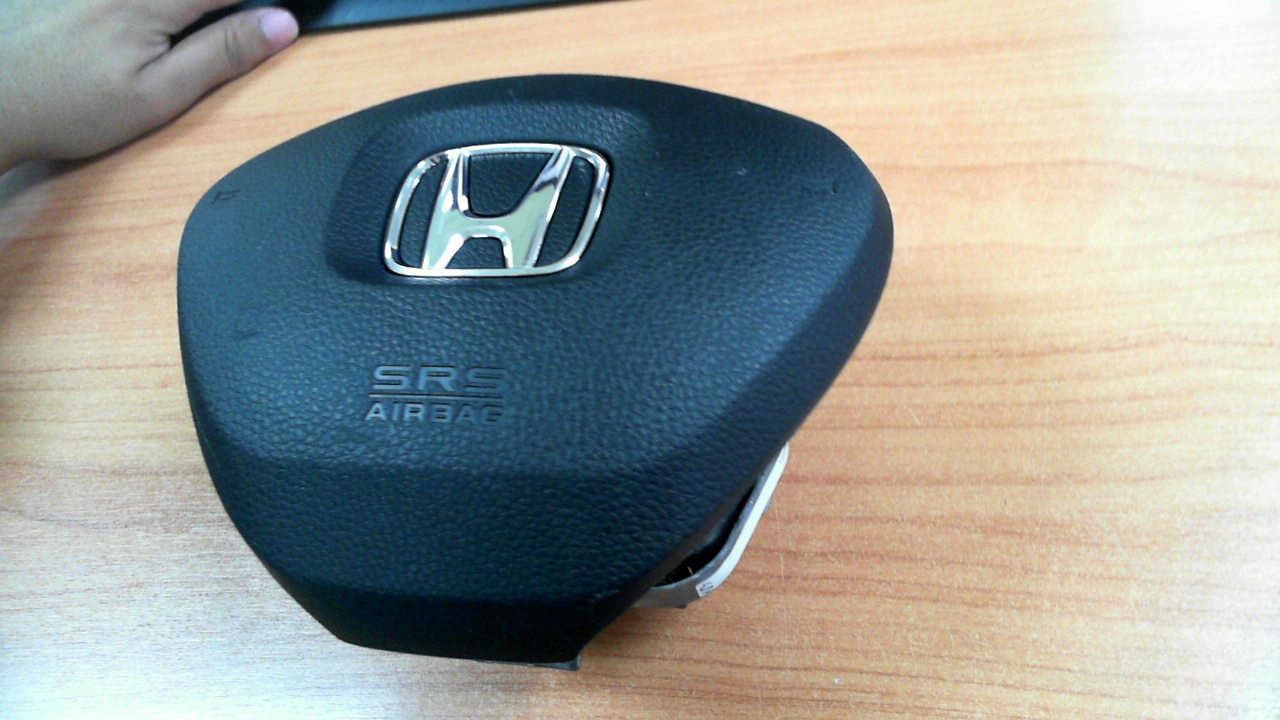Airbag: (176, 75, 896, 666)
Honda: (384, 142, 610, 277)
